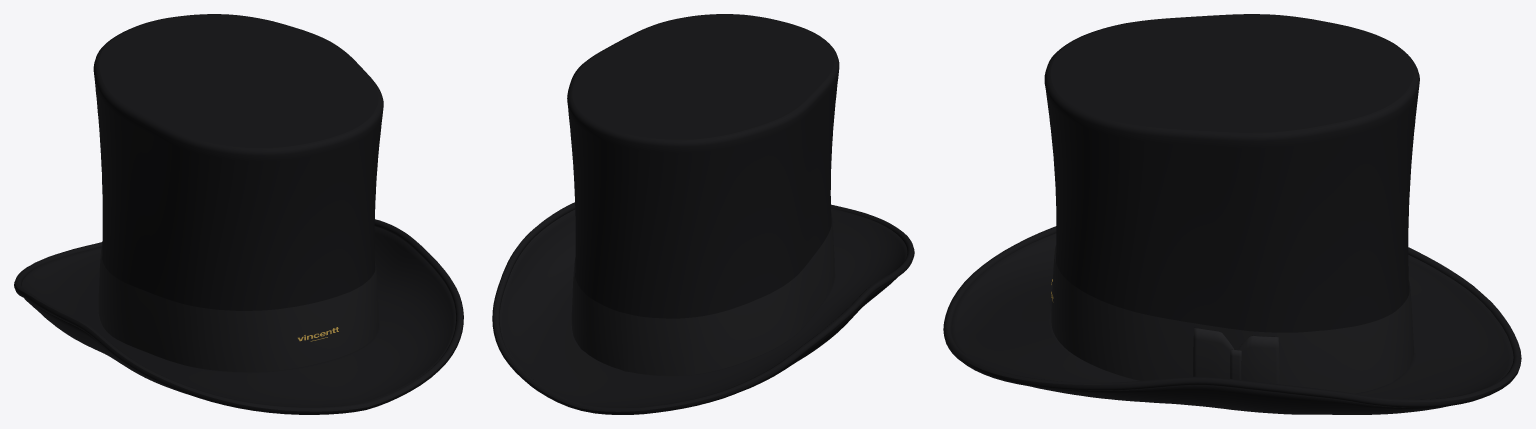
Rendered from vincentt-top-hat.glb.
3 renders of one model, left to right at view 1: azimuth 30°, elevation 25°; view 2: azimuth 150°, elevation 25°; view 3: azimuth 270°, elevation 25°, orthographic. The views are drawn at different scales.
Parts seen in each view (by area): view 1: tophat_crown, tophat_brim, tophat_band, tophat_binding; view 2: tophat_crown, tophat_brim, tophat_band, tophat_binding; view 3: tophat_crown, tophat_brim, tophat_band, tophat_binding, tophat_bow.
Boxes of the visible parts, box(x1,y1,x2,y2) form: tophat_crown: box(93, 14, 383, 310); tophat_brim: box(22, 226, 455, 407); tophat_band: box(98, 246, 378, 372); tophat_binding: box(14, 219, 463, 414); tophat_crown: box(567, 14, 839, 318); tophat_brim: box(499, 208, 907, 407); tophat_band: box(571, 211, 834, 375); tophat_binding: box(492, 202, 914, 414); tophat_crown: box(1044, 14, 1419, 332); tophat_brim: box(951, 233, 1513, 414); tophat_band: box(1051, 245, 1414, 393); tophat_binding: box(943, 226, 1521, 407); tophat_bow: box(1193, 327, 1279, 384).
Size of what is drawn, in the model's own units: 0.2441 by 0.1782 by 0.3204.
6 materials, 1 textured.
